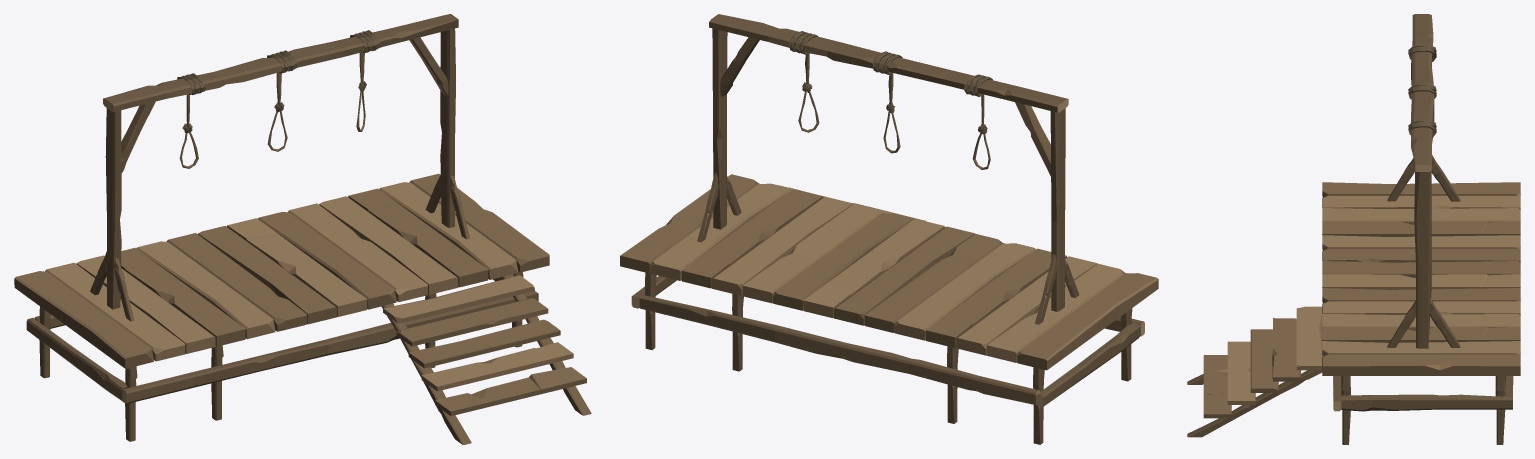
File: WF_LP_HT_Props_Scaffold.001.fbx
3 views of the same model, side by side, from view 1: azimuth 30°, elevation 25°; view 2: azimuth 150°, elevation 25°; view 3: azimuth 270°, elevation 25° (orthographic). The views are drawn at different scales.
Parts seen in each view (by area): view 1: WF_LP_HT_Props_Scaffold.001; view 2: WF_LP_HT_Props_Scaffold.001; view 3: WF_LP_HT_Props_Scaffold.001.
Part boxes in pixels (x1=…): WF_LP_HT_Props_Scaffold.001: x1=14, y1=14, x2=591, y2=444; WF_LP_HT_Props_Scaffold.001: x1=620, y1=14, x2=1158, y2=444; WF_LP_HT_Props_Scaffold.001: x1=1187, y1=14, x2=1520, y2=444.
Bounding box in the file's own units: 7.33 × 5.05 × 5.57.
